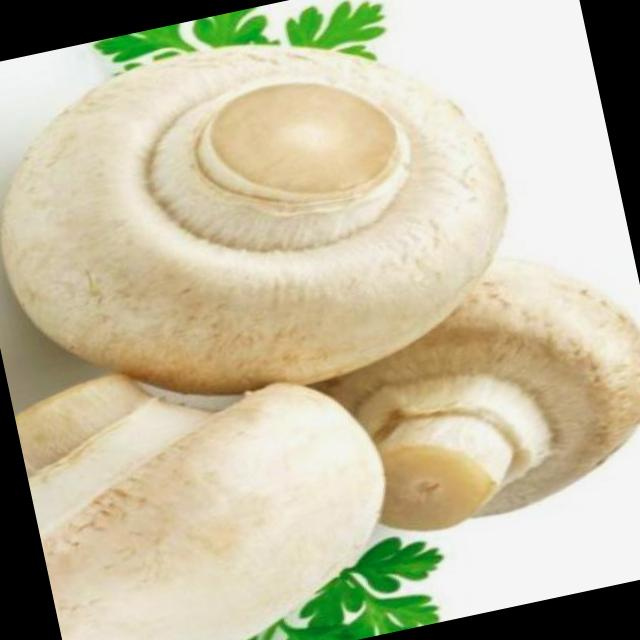Agaricus bisporus: (0, 0, 530, 435), (10, 328, 417, 640), (322, 234, 640, 543)
